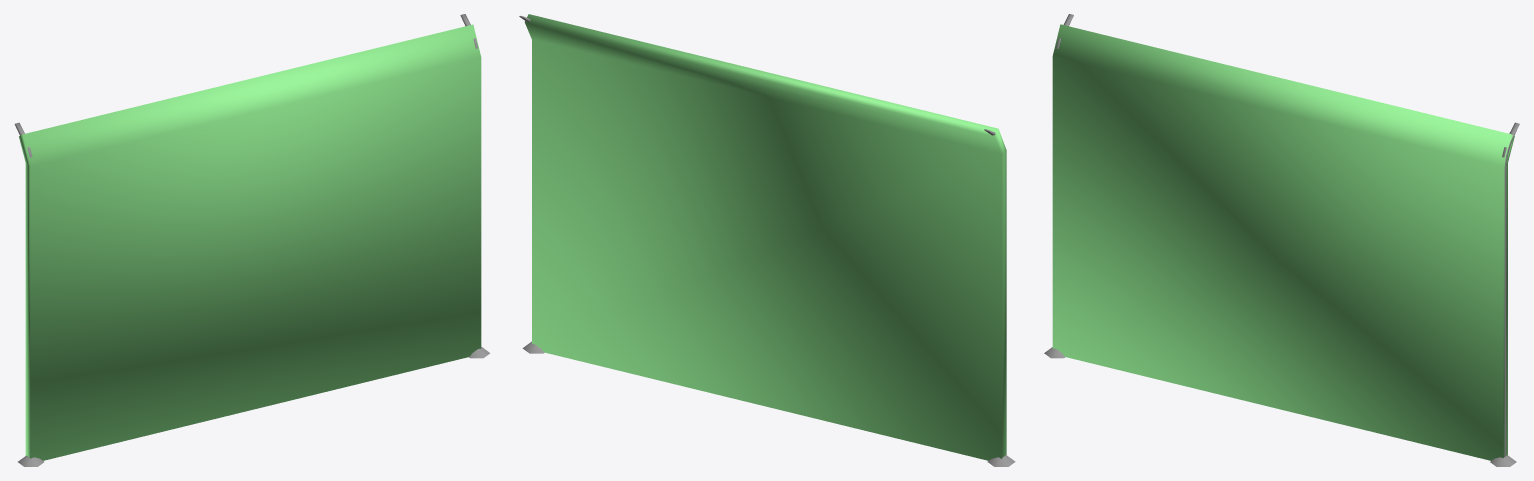
File: standardfence.fbx
3 views of the same model, side by side, from view 1: azimuth 30°, elevation 25°; view 2: azimuth 150°, elevation 25°; view 3: azimuth 330°, elevation 25° (orthographic). The views are drawn at different scales.
Visible parts, largest first — view 1: standardfence; view 2: standardfence; view 3: standardfence.
Boxes of the visible parts, bbox=[...] form: standardfence: bbox=[14, 14, 489, 466]; standardfence: bbox=[519, 14, 1015, 466]; standardfence: bbox=[1044, 14, 1519, 466].
Size of the model in its own units: 420 by 283 by 33.01.
